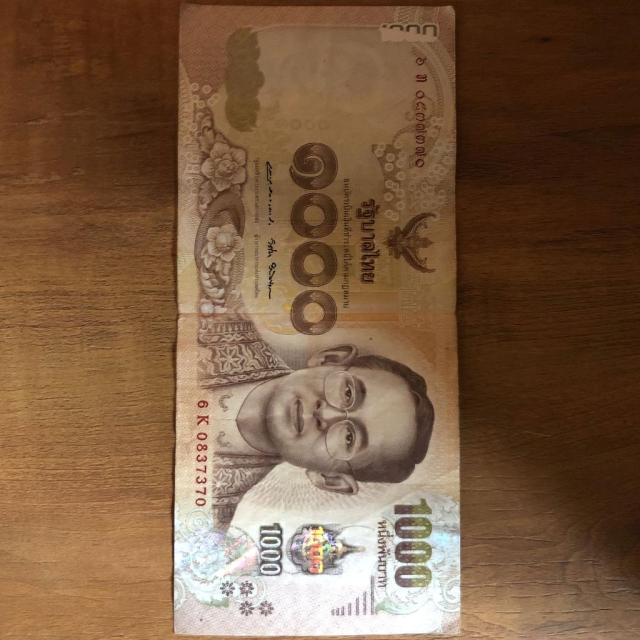THAI1000: (174, 4, 460, 636)
